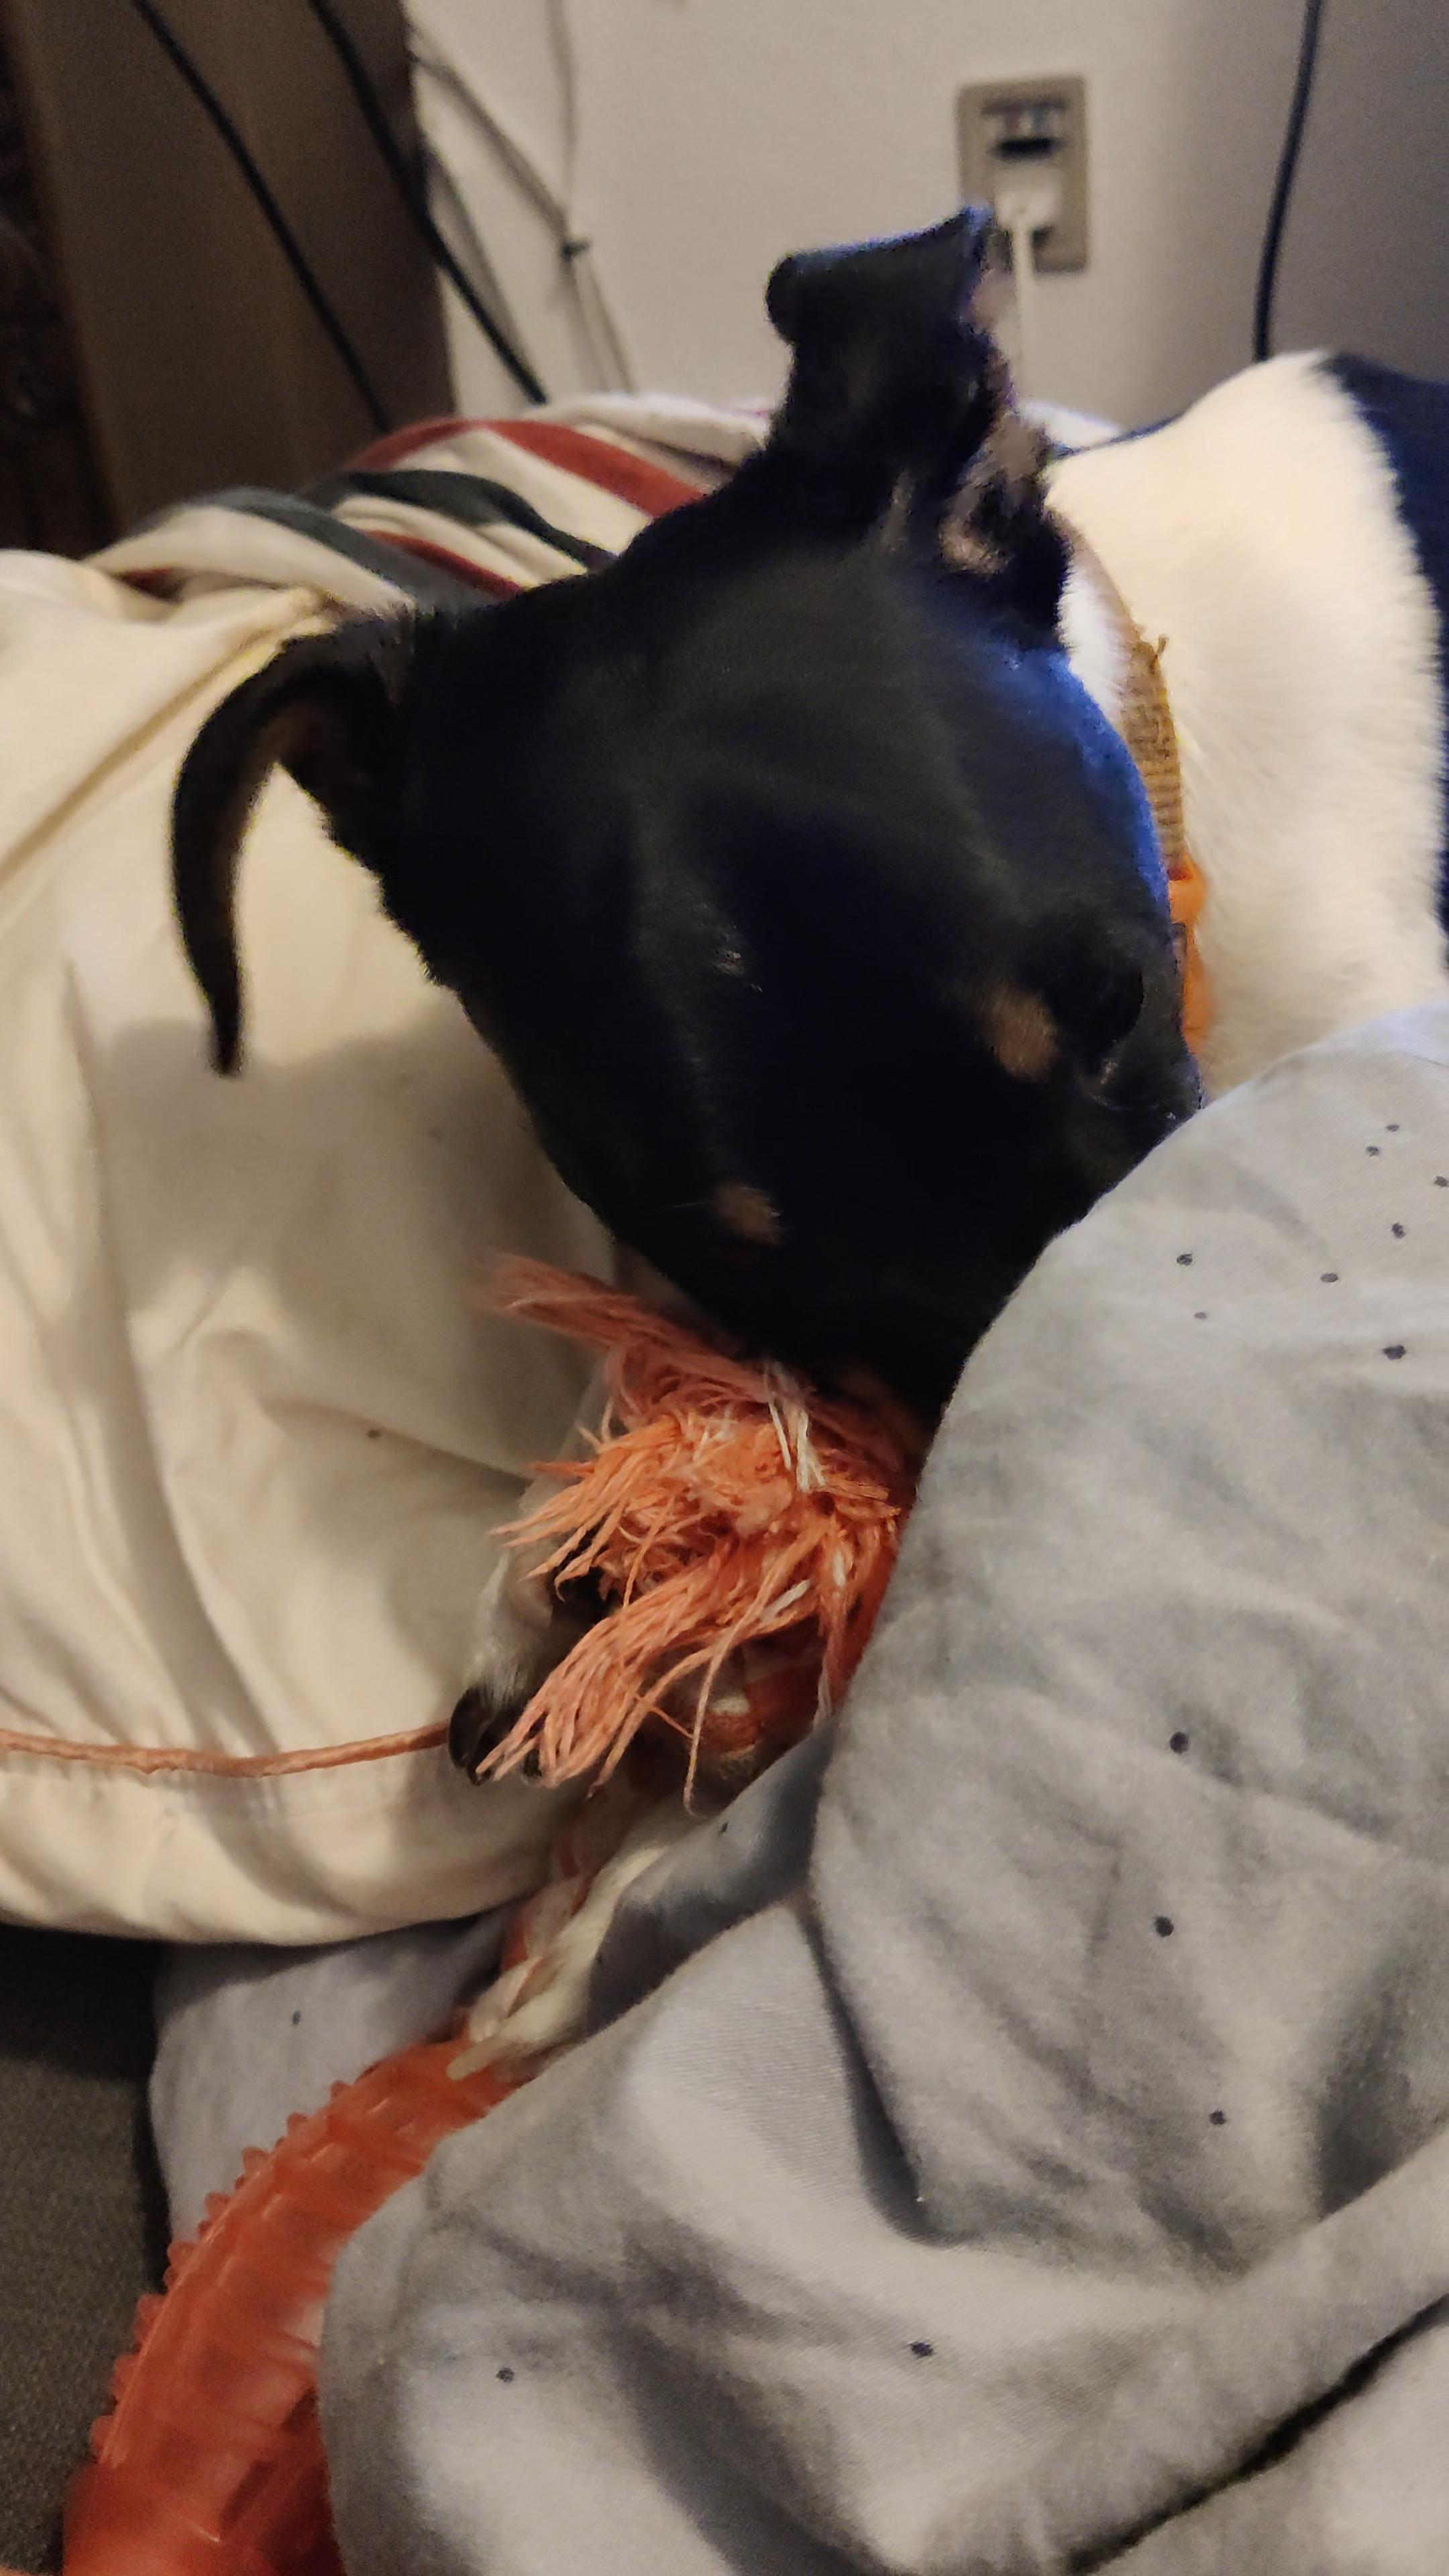Dog: (165, 189, 1449, 2084)
